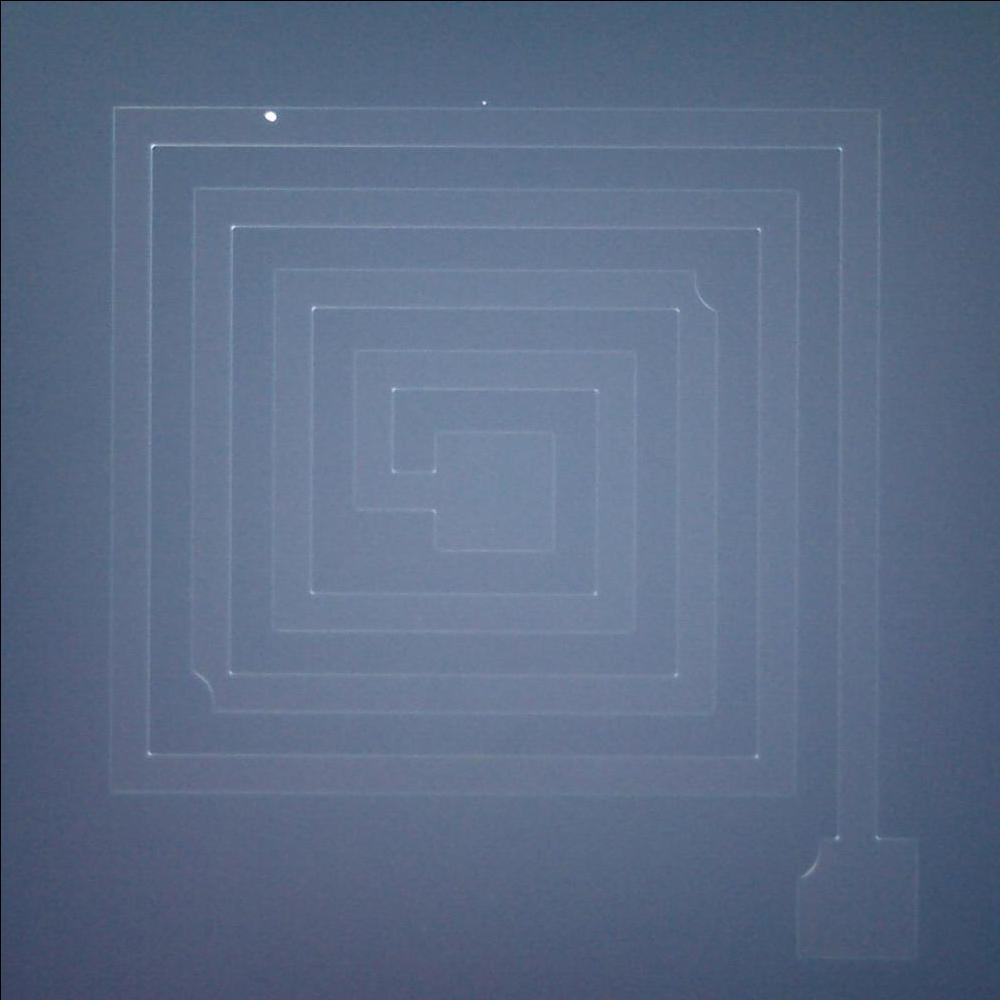curve circuit: (782, 824, 836, 899), (178, 657, 221, 727), (682, 258, 730, 316)
dot: (468, 92, 494, 112)
spot: (257, 104, 284, 127)
